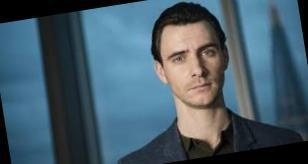Sober: (163, 30, 222, 101)
